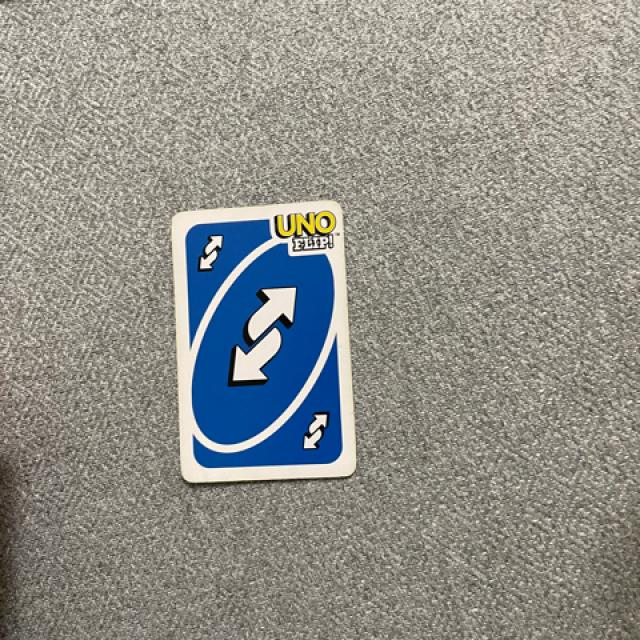lbluerevers-20: (180, 220, 240, 283)
